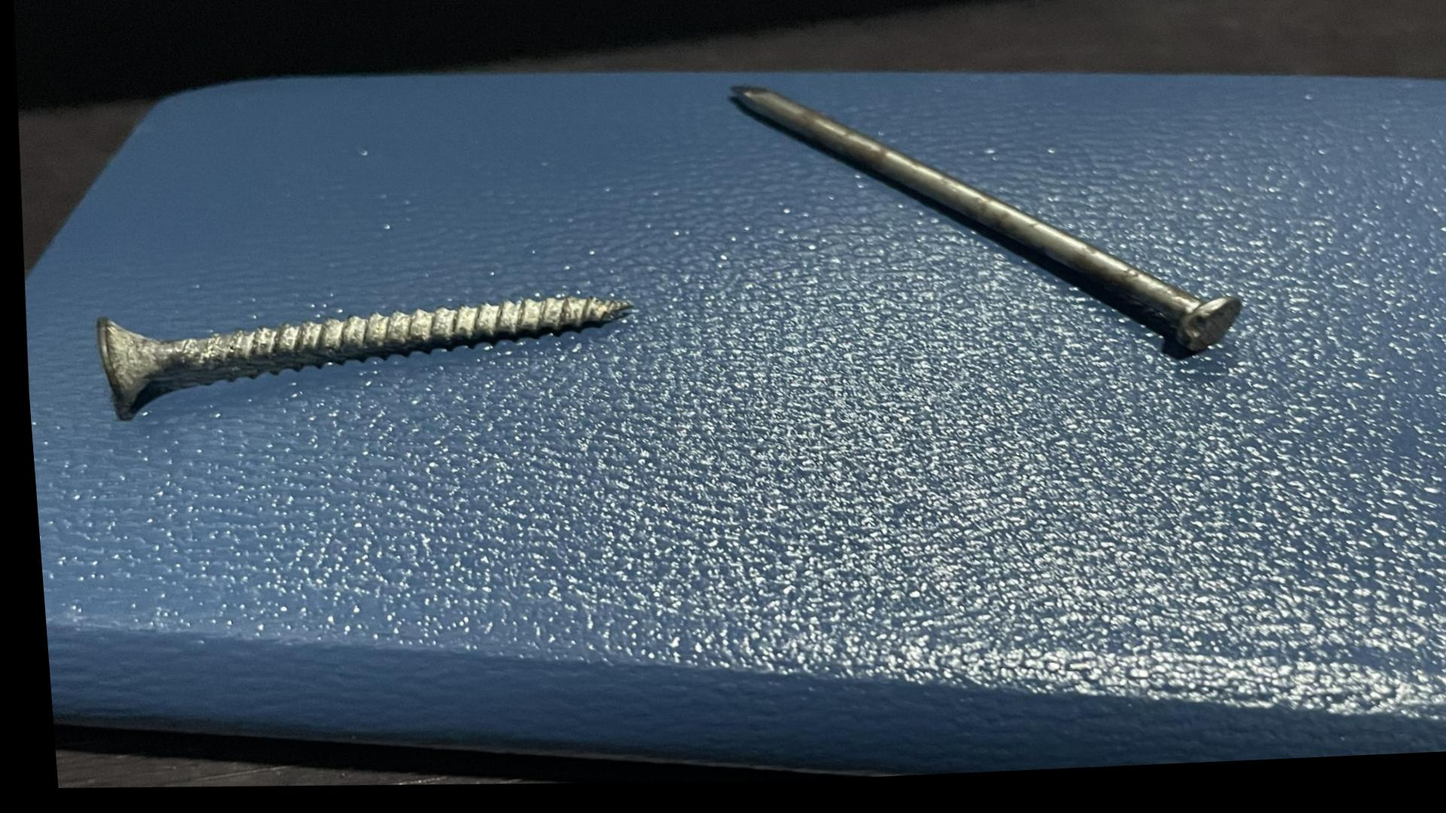nail: (686, 59, 1300, 398)
screw: (60, 255, 667, 450)
